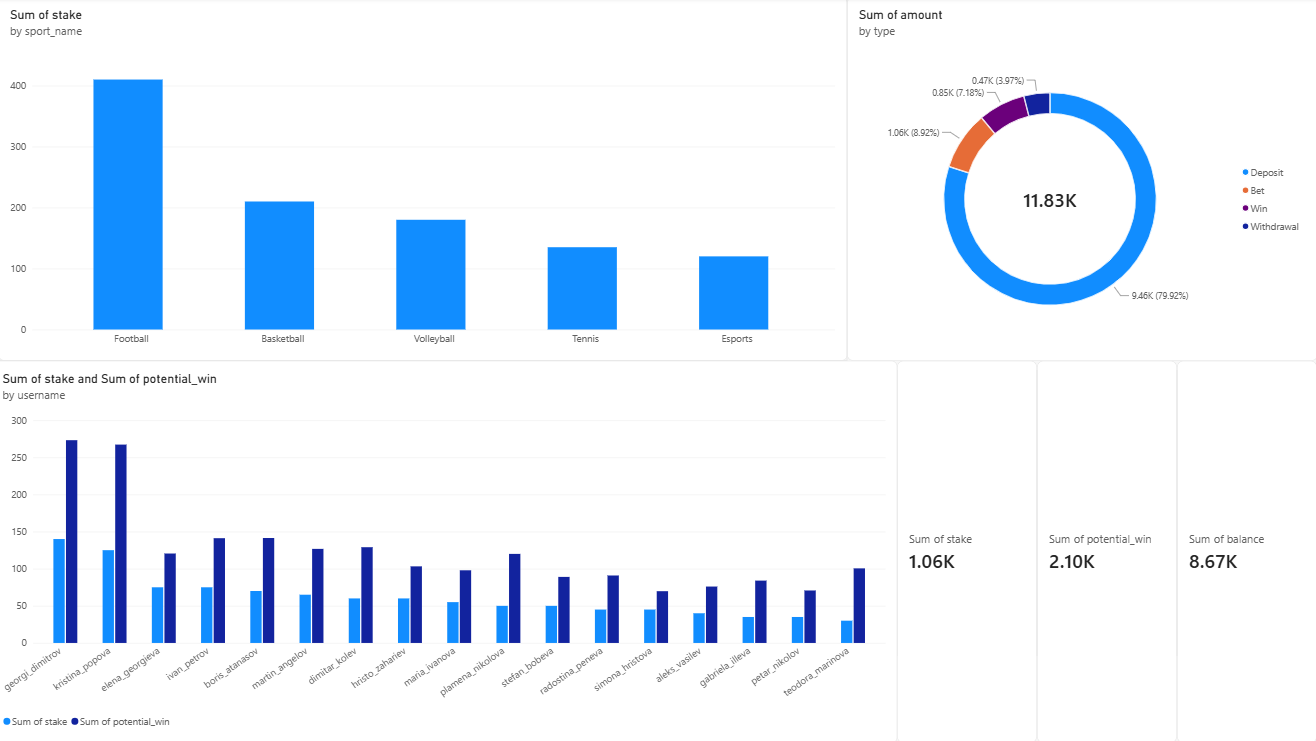

What the dashboard file says about the page in this screenshot:
{"tool":"powerbi","page":{"name":"Page 1","canvas":[1920,1080],"ordinal":0},"visuals":[{"type":"columnChart","fields":{"Category":["vw_BetAnalytics.sport_name"],"Y":["Sum(vw_BetAnalytics.stake)"]},"box":[10.9,0,1228.8,526.6],"z":0},{"type":"clusteredColumnChart","fields":{"Category":["vw_BetAnalytics.username"],"Y":["Sum(vw_BetAnalytics.stake)","Sum(vw_BetAnalytics.potential_win)"]},"box":[0,526.6,1312,553.8],"z":1000},{"type":"donutChart","fields":{"Category":["Transaction.type"],"Y":["Sum(Transaction.amount)"]},"box":[1239.6,0,680.4,526.6],"z":2000},{"type":"cardVisual","fields":{"Data":["Sum(vw_BetAnalytics.stake)"]},"box":[1312,526.6,202.7,553.8],"z":2001},{"type":"cardVisual","fields":{"Data":["Sum(Wallet.balance)"]},"box":[1717.4,526.6,202.7,553.8],"z":2002},{"type":"cardVisual","fields":{"Data":["Sum(vw_BetAnalytics.potential_win)"]},"box":[1514.7,526.6,202.7,553.8],"z":2003}]}

Visuals, with their boxes in screenshot pixels (x1, y1, x2, y2), scaled from the page's 1920x1080 canvas onto the 1316x741 screenshot:
columnChart - vw_BetAnalytics.sport_name x Sum(vw_BetAnalytics.stake): region(7, 0, 850, 361)
clusteredColumnChart - vw_BetAnalytics.username x Sum(vw_BetAnalytics.stake): region(0, 361, 899, 740)
donutChart - Transaction.type x Sum(Transaction.amount): region(850, 0, 1315, 361)
cardVisual - Sum(vw_BetAnalytics.stake): region(899, 361, 1038, 740)
cardVisual - Sum(Wallet.balance): region(1177, 361, 1315, 740)
cardVisual - Sum(vw_BetAnalytics.potential_win): region(1038, 361, 1177, 740)
